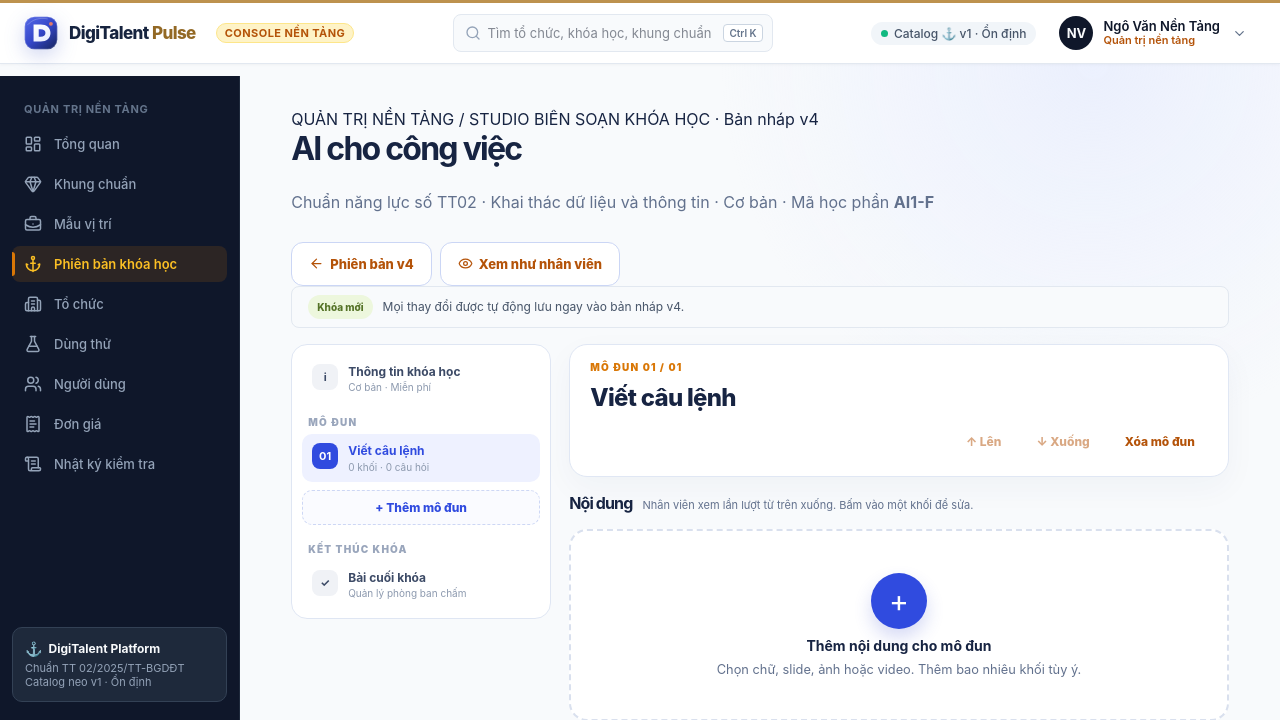
Test case: Platform Admin console (v2) › PA-04 adds a content block with the "+" of an empty module
Expected: the field named "Tên mô đun" holds "Viết câu lệnh", [590,379,1208,418]
Click the button named "Thêm nội dung đầu tiên" at (899, 601), box [871,573,927,629]
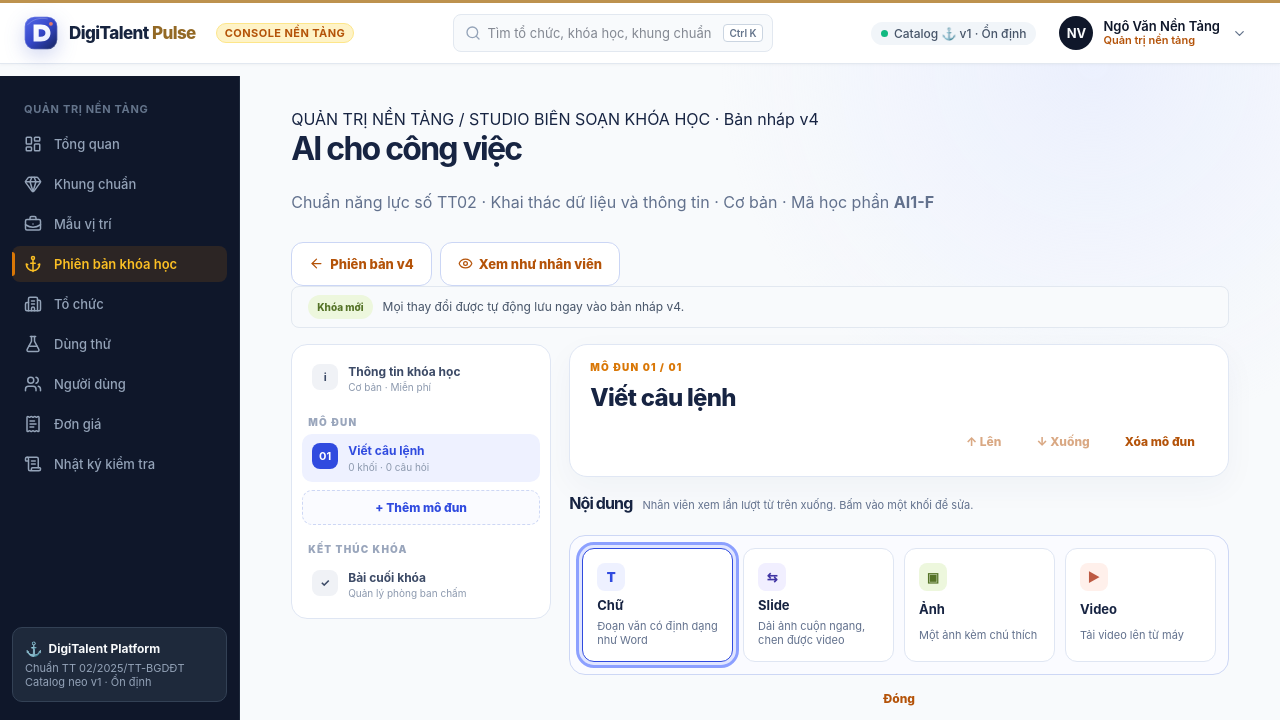
Click the button "▣ Ảnh Một ảnh kèm chú thích" at (979, 605), box [904,548,1055,662]
(page scrolled)
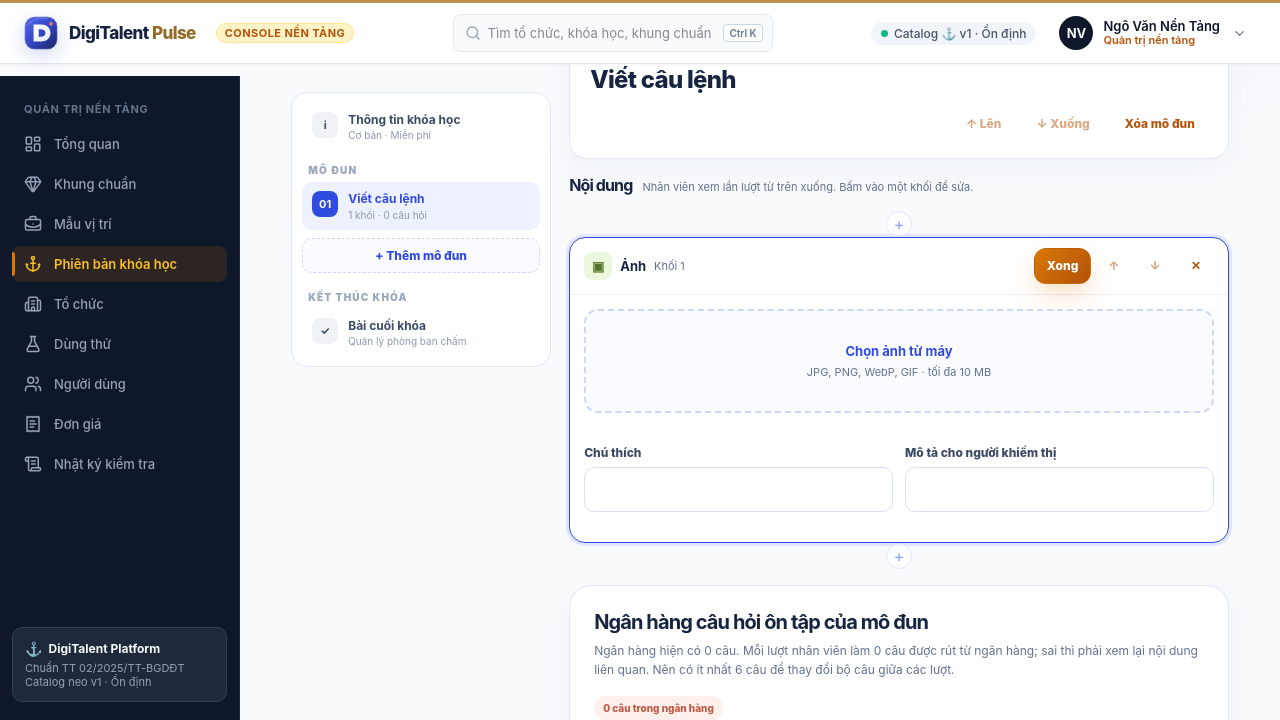
Expected: the button "Chọn ảnh từ máy JPG, PNG, WebP, GIF · tối đa 10 MB" is shown, [584,309,1214,413]
